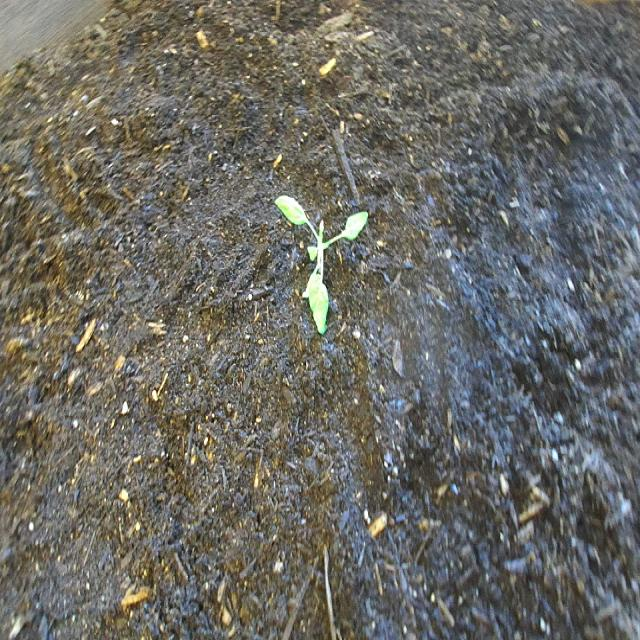Healthy: (272, 189, 369, 339)
